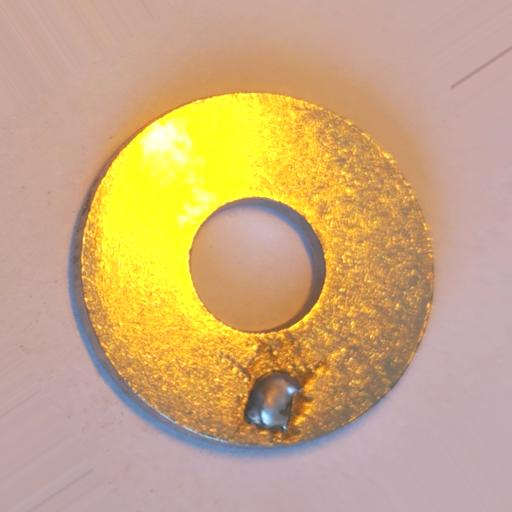excess_material: (243, 370, 302, 432)
